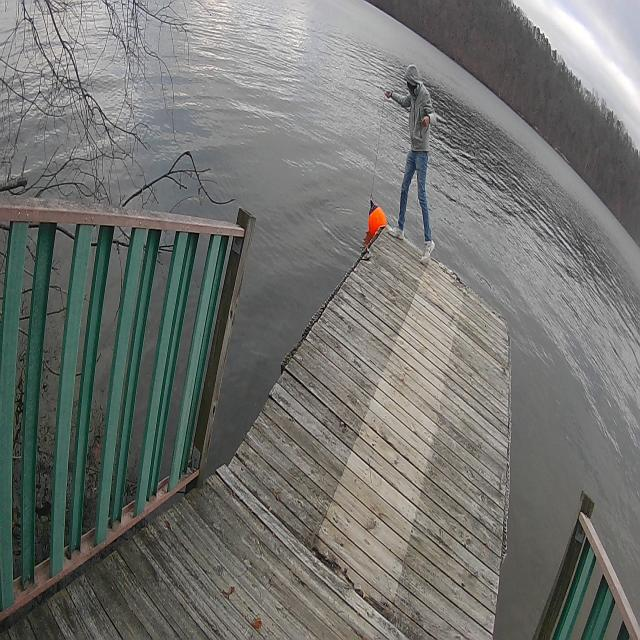Buoy: (364, 196, 390, 246)
